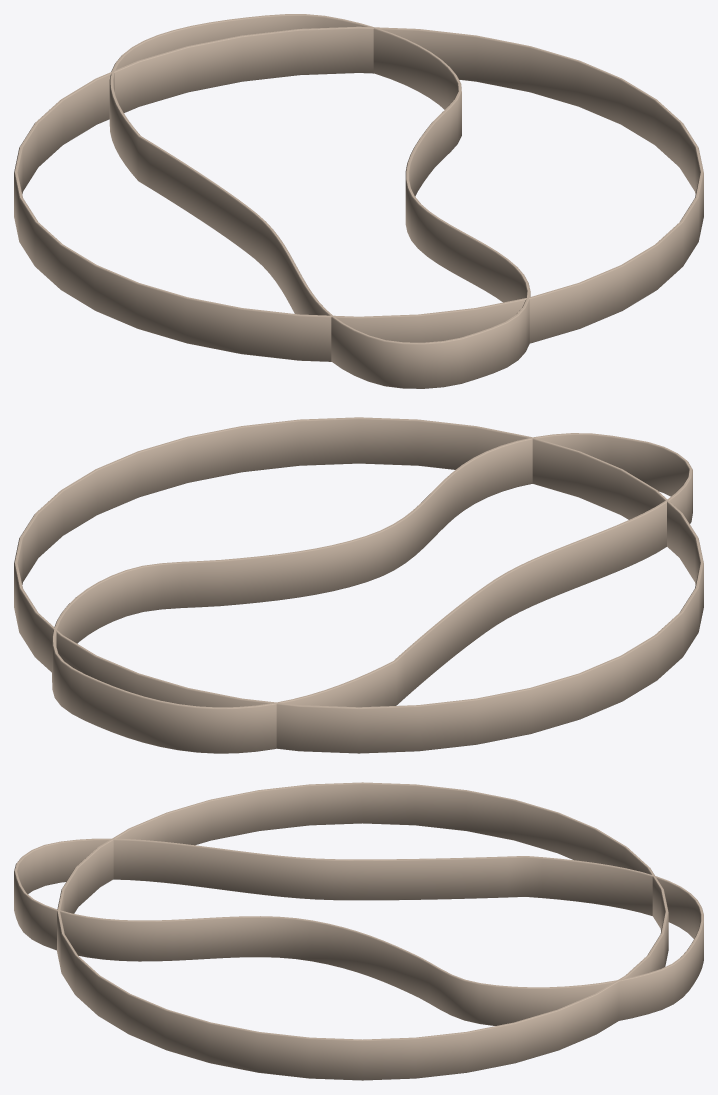
File: Rubber_Bands.fbx
The picture shows the model from 3 angles, top to bottom: view 1: azimuth 30°, elevation 25°; view 2: azimuth 150°, elevation 25°; view 3: azimuth 270°, elevation 25°; orthographic projection. The views are drawn at different scales.
Visible parts, largest first — view 1: Round_Rubber_Band, Bent_Rubber_Band; view 2: Round_Rubber_Band, Bent_Rubber_Band; view 3: Bent_Rubber_Band, Round_Rubber_Band.
Part boxes in pixels (left/top/right/bottom): Round_Rubber_Band: left=14, top=26, right=703, bottom=361; Bent_Rubber_Band: left=109, top=14, right=530, bottom=388; Round_Rubber_Band: left=14, top=417, right=703, bottom=753; Bent_Rubber_Band: left=52, top=433, right=692, bottom=753; Bent_Rubber_Band: left=14, top=838, right=703, bottom=1025; Round_Rubber_Band: left=57, top=782, right=668, bottom=1080.
Size of the model in its own units: 402 by 29.19 by 454.
